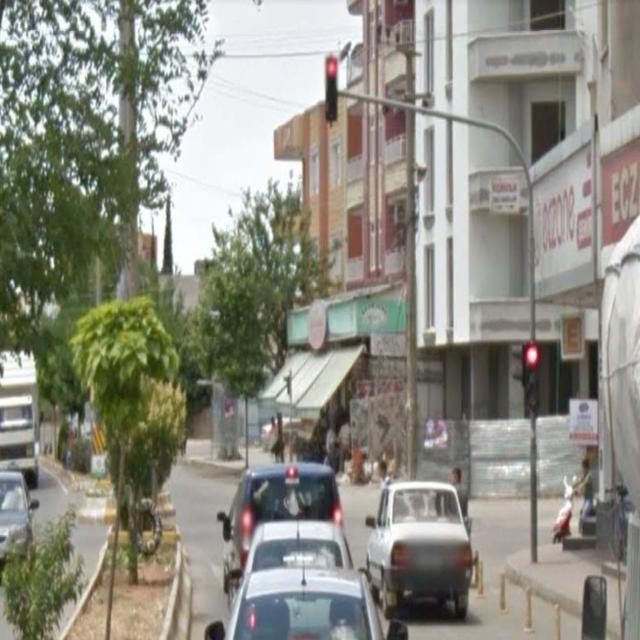kirmizi: (526, 346, 540, 407), (326, 58, 338, 116)
